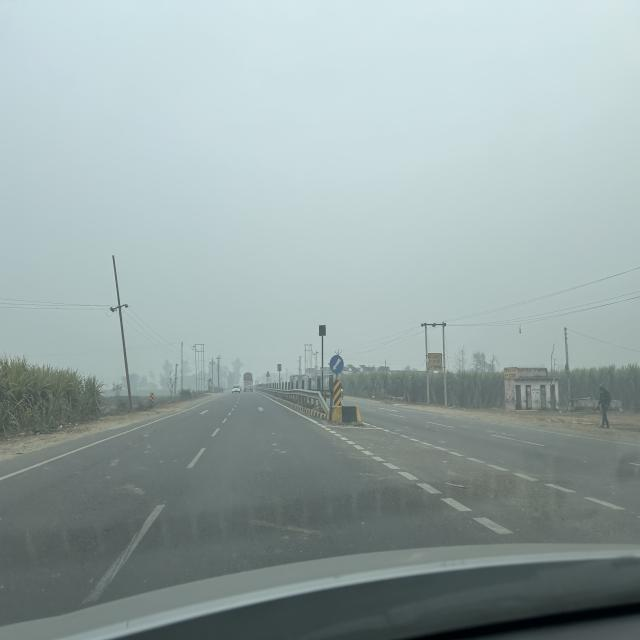KEEP_LEFT: (329, 355, 344, 375)
